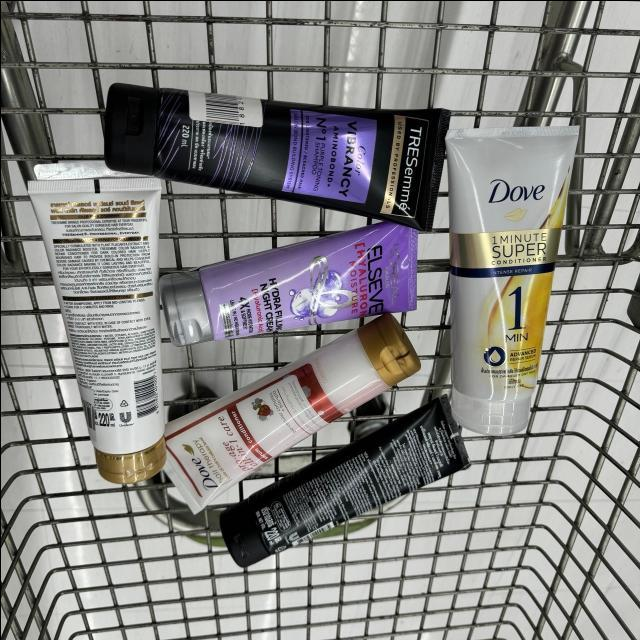Squeeze Tube: (96, 74, 461, 239), (157, 314, 425, 517), (214, 387, 476, 580), (447, 121, 585, 448), (27, 168, 164, 489), (166, 226, 421, 351)
